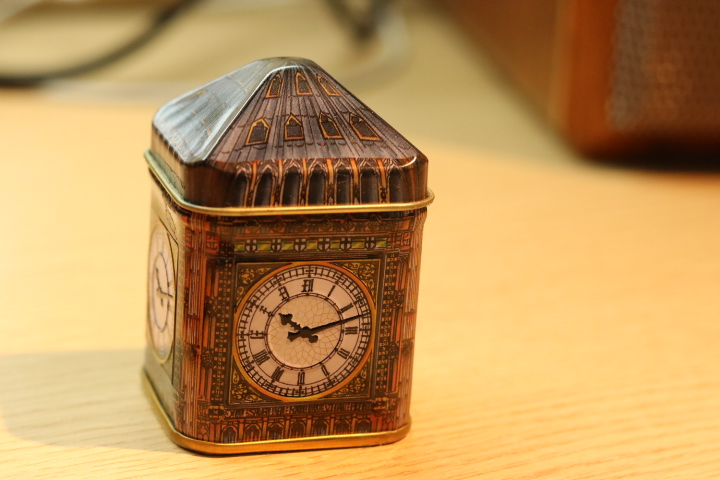Big Ben: (130, 50, 442, 462)
